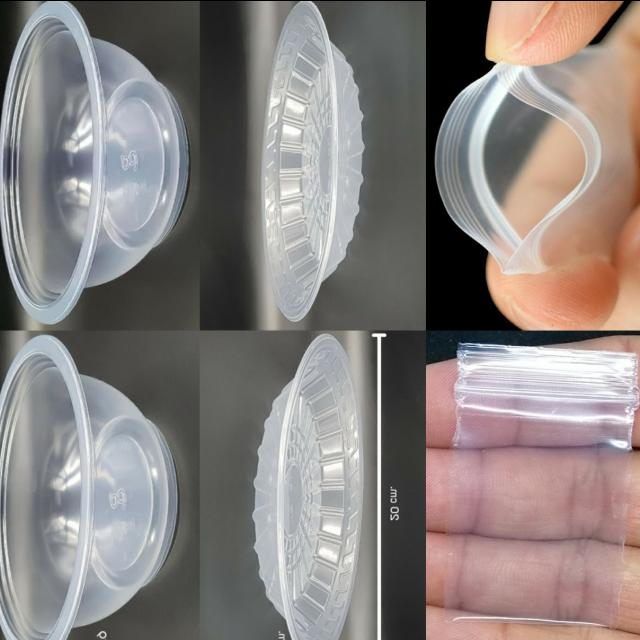plastik: (0, 0, 188, 323), (444, 343, 638, 626), (0, 334, 177, 640), (436, 46, 635, 273), (253, 334, 363, 640), (261, 0, 365, 321)
